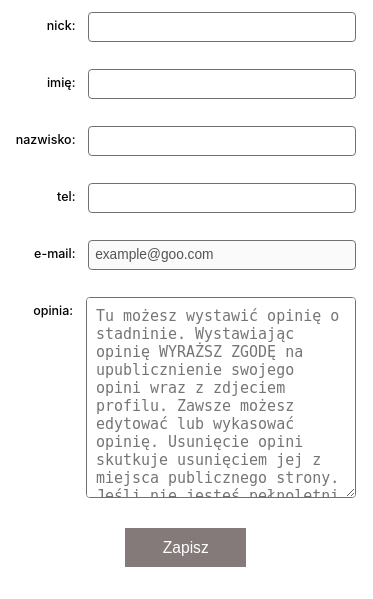
Scenario: Edit profile check error message › no data first name only tab should show error after focus
The width and height of the screenshot is (373, 599).
Click the field with test id "inputFormEditProfileFirstName" at (222, 84), box [88,69,356,99]
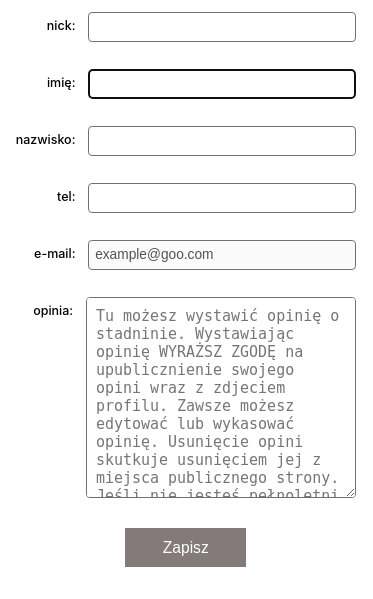
Press Tab
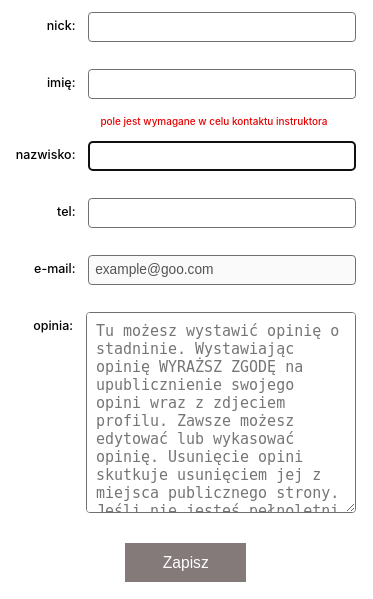
Expected: the text with test id "errorEditFormProfileFirstName" reads "pole jest wymagane w celu kontaktu instruktora", [100,115,328,127]
